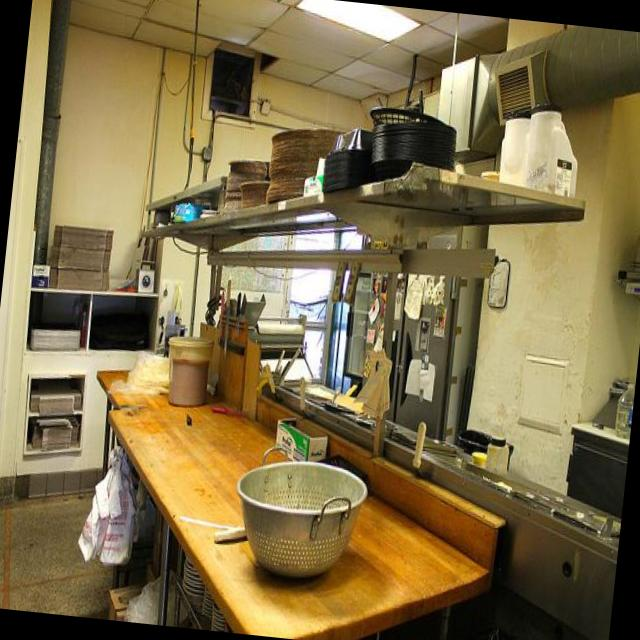bottle: (613, 382, 635, 440), (484, 436, 511, 476), (78, 304, 88, 348)
bowl: (226, 442, 370, 586)
knife: (219, 278, 234, 356), (235, 292, 242, 318)
oven: (358, 419, 628, 640)
refrigerator: (380, 271, 460, 442)
